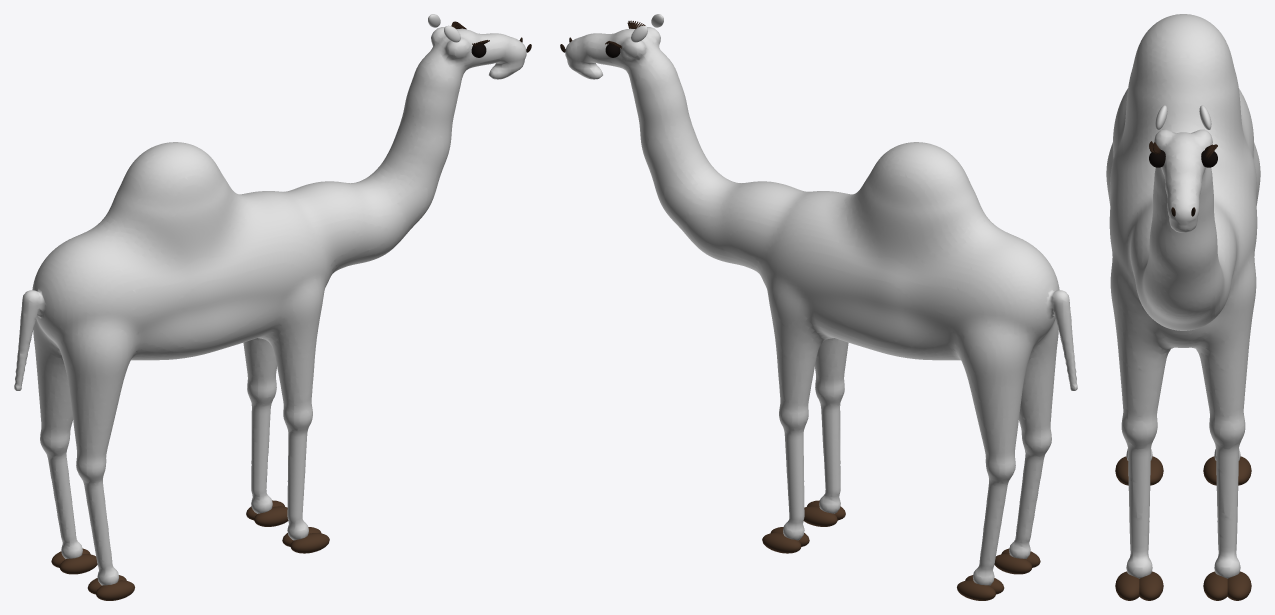
The model's file is camel.glb.
3 views of the same model, side by side, from view 1: azimuth 30°, elevation 25°; view 2: azimuth 150°, elevation 25°; view 3: azimuth 270°, elevation 25° (orthographic). The views are drawn at different scales.
Visible parts, largest first — view 1: camel; view 2: camel; view 3: camel, Sphere.001, Sphere.002, Sphere, Sphere.003, Sphere.004, Sphere.005, Sphere.006, Sphere.007, Sphere.009.
Part boxes in pixels (left/top/right/bottom): camel: left=14, top=27, right=526, bottom=585; camel: left=565, top=27, right=1077, bottom=585; camel: left=1106, top=14, right=1260, bottom=578; Sphere.001: left=1203, top=571, right=1227, bottom=600; Sphere.002: left=1139, top=571, right=1163, bottom=600; Sphere: left=1227, top=571, right=1251, bottom=600; Sphere.003: left=1115, top=571, right=1139, bottom=600; Sphere.004: left=1238, top=456, right=1251, bottom=485; Sphere.005: left=1203, top=456, right=1216, bottom=485; Sphere.006: left=1150, top=456, right=1163, bottom=485; Sphere.007: left=1115, top=456, right=1128, bottom=485; Sphere.009: left=1149, top=150, right=1165, bottom=167.
Size of the model in its own units: 3.26 by 2.91 by 0.7007.
